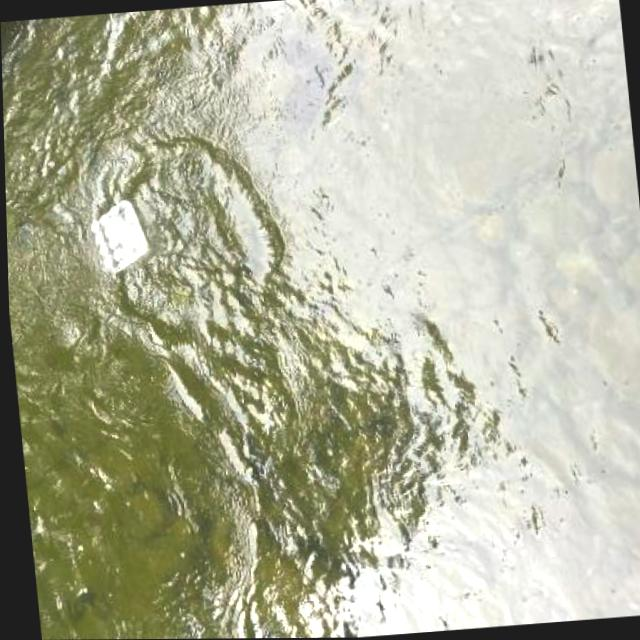Plastic: (77, 193, 155, 282)
